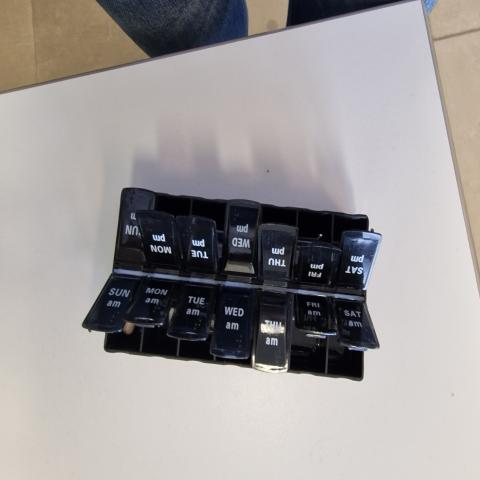Open: (292, 314, 335, 374), (327, 340, 381, 382), (190, 195, 222, 264), (182, 309, 217, 357), (86, 323, 140, 352), (215, 329, 253, 367), (301, 212, 335, 247), (143, 191, 191, 215), (141, 327, 181, 355), (340, 215, 369, 249), (265, 207, 297, 230)
